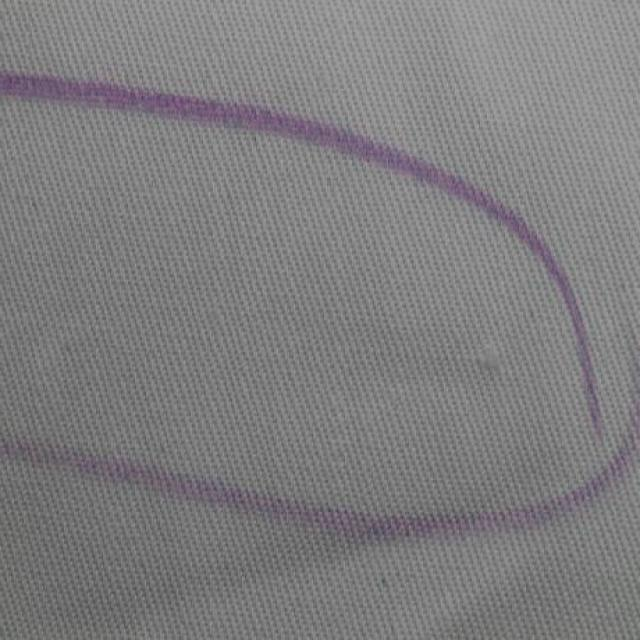Thread_other: (302, 278, 556, 416)
